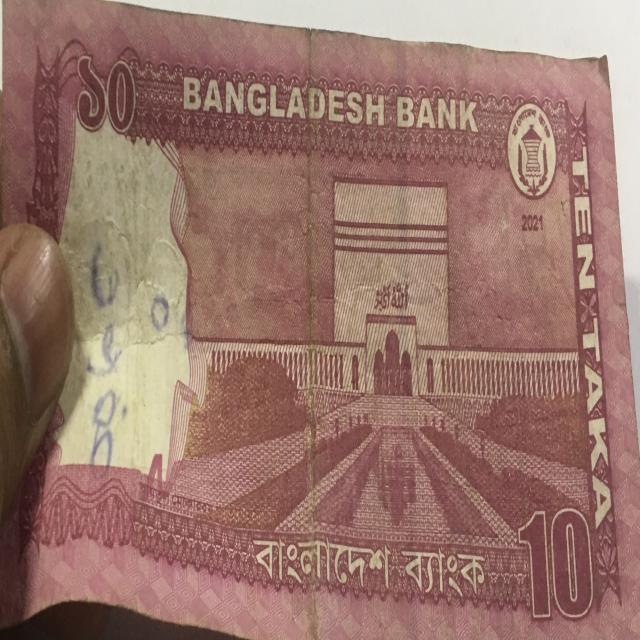Taka: (3, 0, 634, 609)
